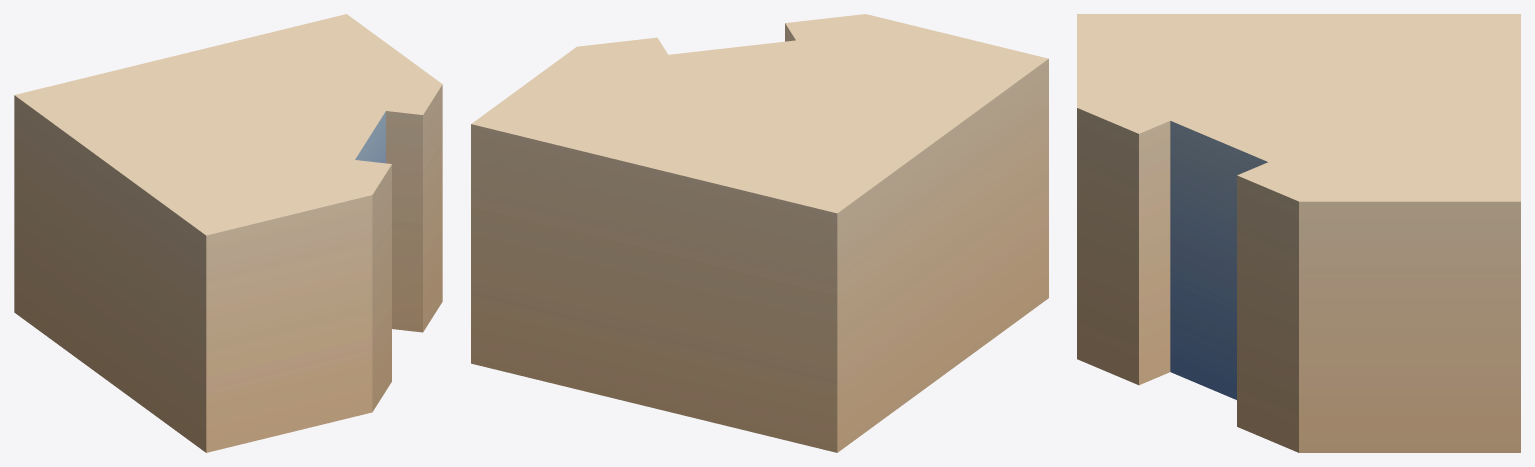
Rendered from kenney-modular-buildings-building-corner-window-middle.glb.
The picture shows the model from 3 angles, left to right: view 1: azimuth 30°, elevation 25°; view 2: azimuth 150°, elevation 25°; view 3: azimuth 270°, elevation 25°; orthographic projection. The views are drawn at different scales.
Parts seen in each view (by area): view 1: building-corner-window-middle; view 2: building-corner-window-middle; view 3: building-corner-window-middle.
Boxes of the visible parts, bbox=[...] form: building-corner-window-middle: bbox=[14, 14, 442, 452]; building-corner-window-middle: bbox=[471, 14, 1048, 452]; building-corner-window-middle: bbox=[1077, 14, 1520, 452].
Bounding box in the file's own units: 1 × 0.625 × 1.
1 material, 1 textured.
